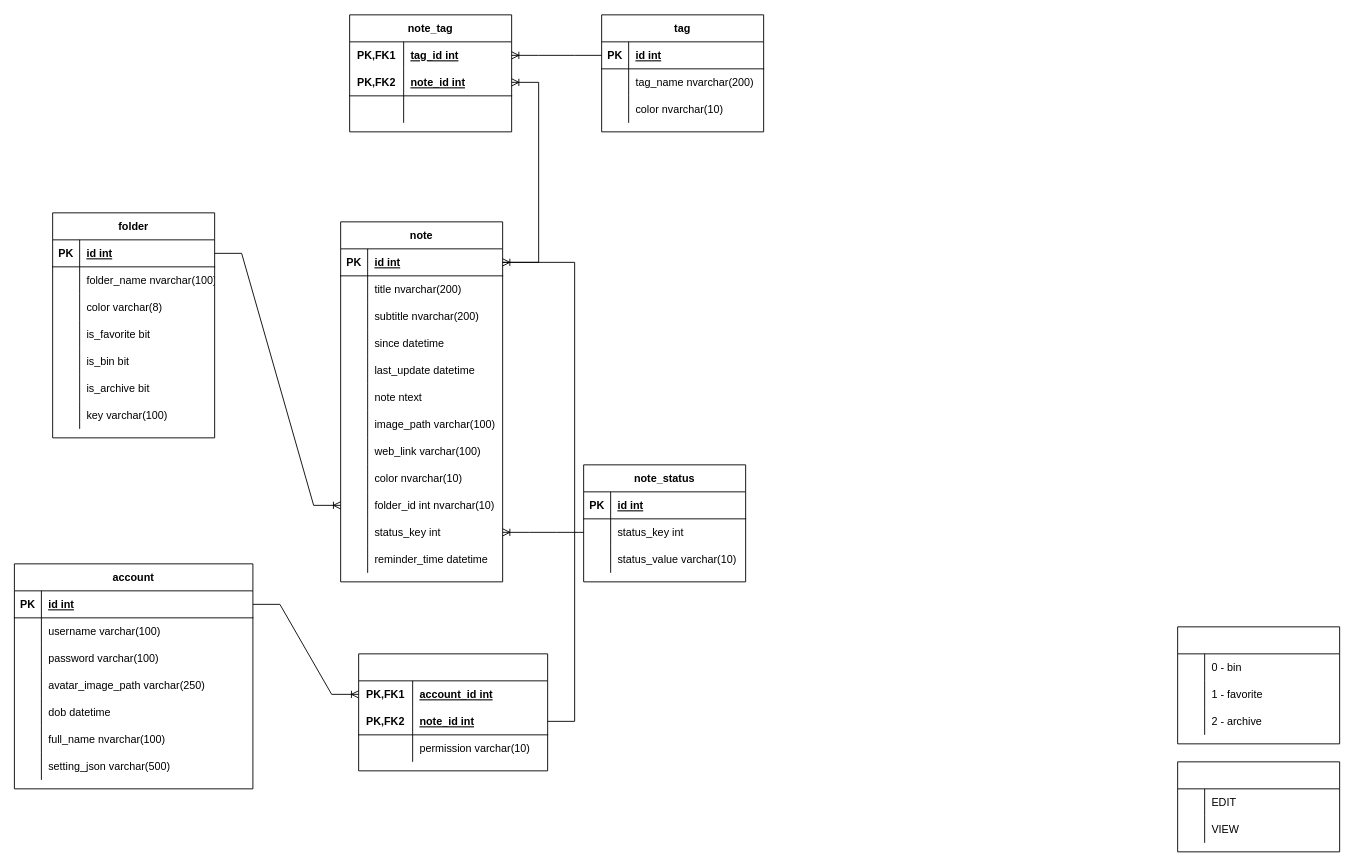
Some shapes in this 1355 by 867 pixel diagram are drawn without their labels. Here are the shapes that lost their labels. From the top down, the box of each, then its label:
(1177, 626, 1340, 744): status ()
(358, 653, 548, 771): note_account
(1177, 761, 1340, 852): permission
